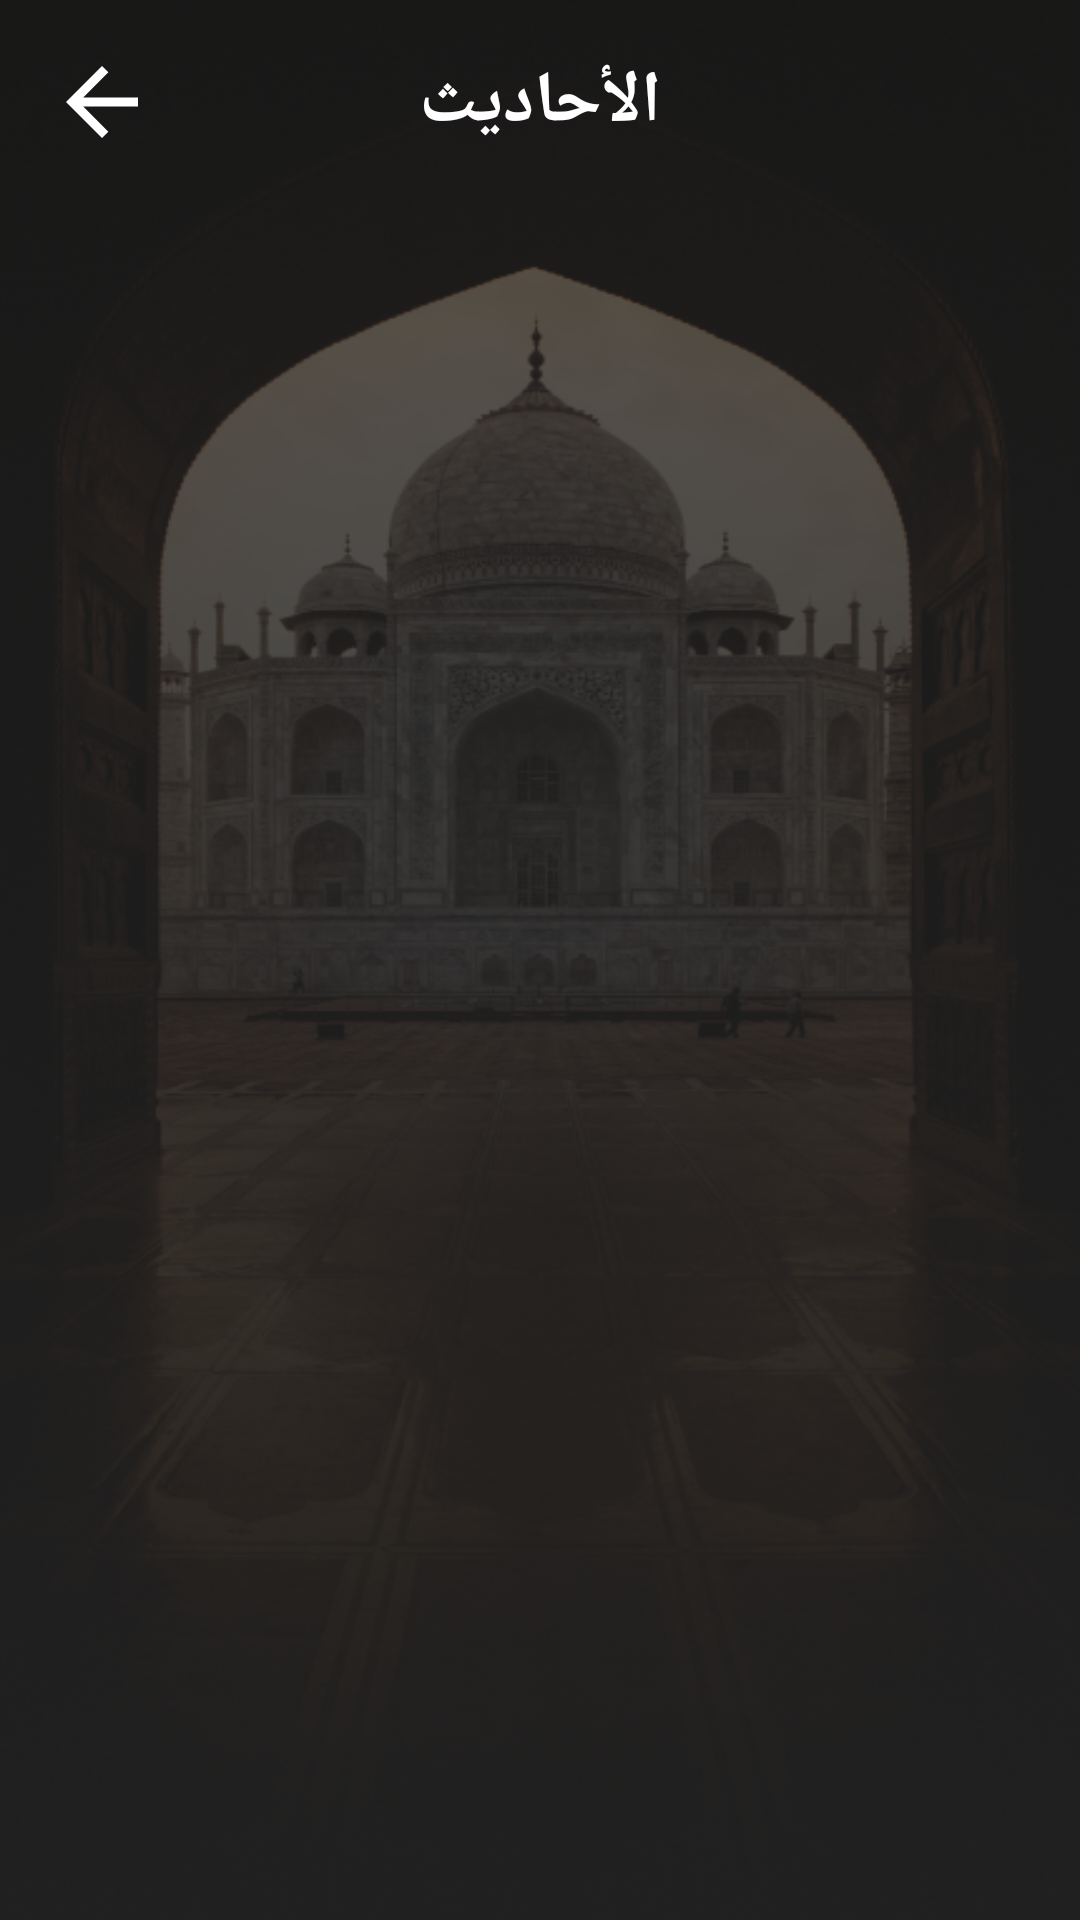

Icons on this 1080px×1920px Android screen, each with the point to tap as [x,y]:
رجوع: [102,102]
